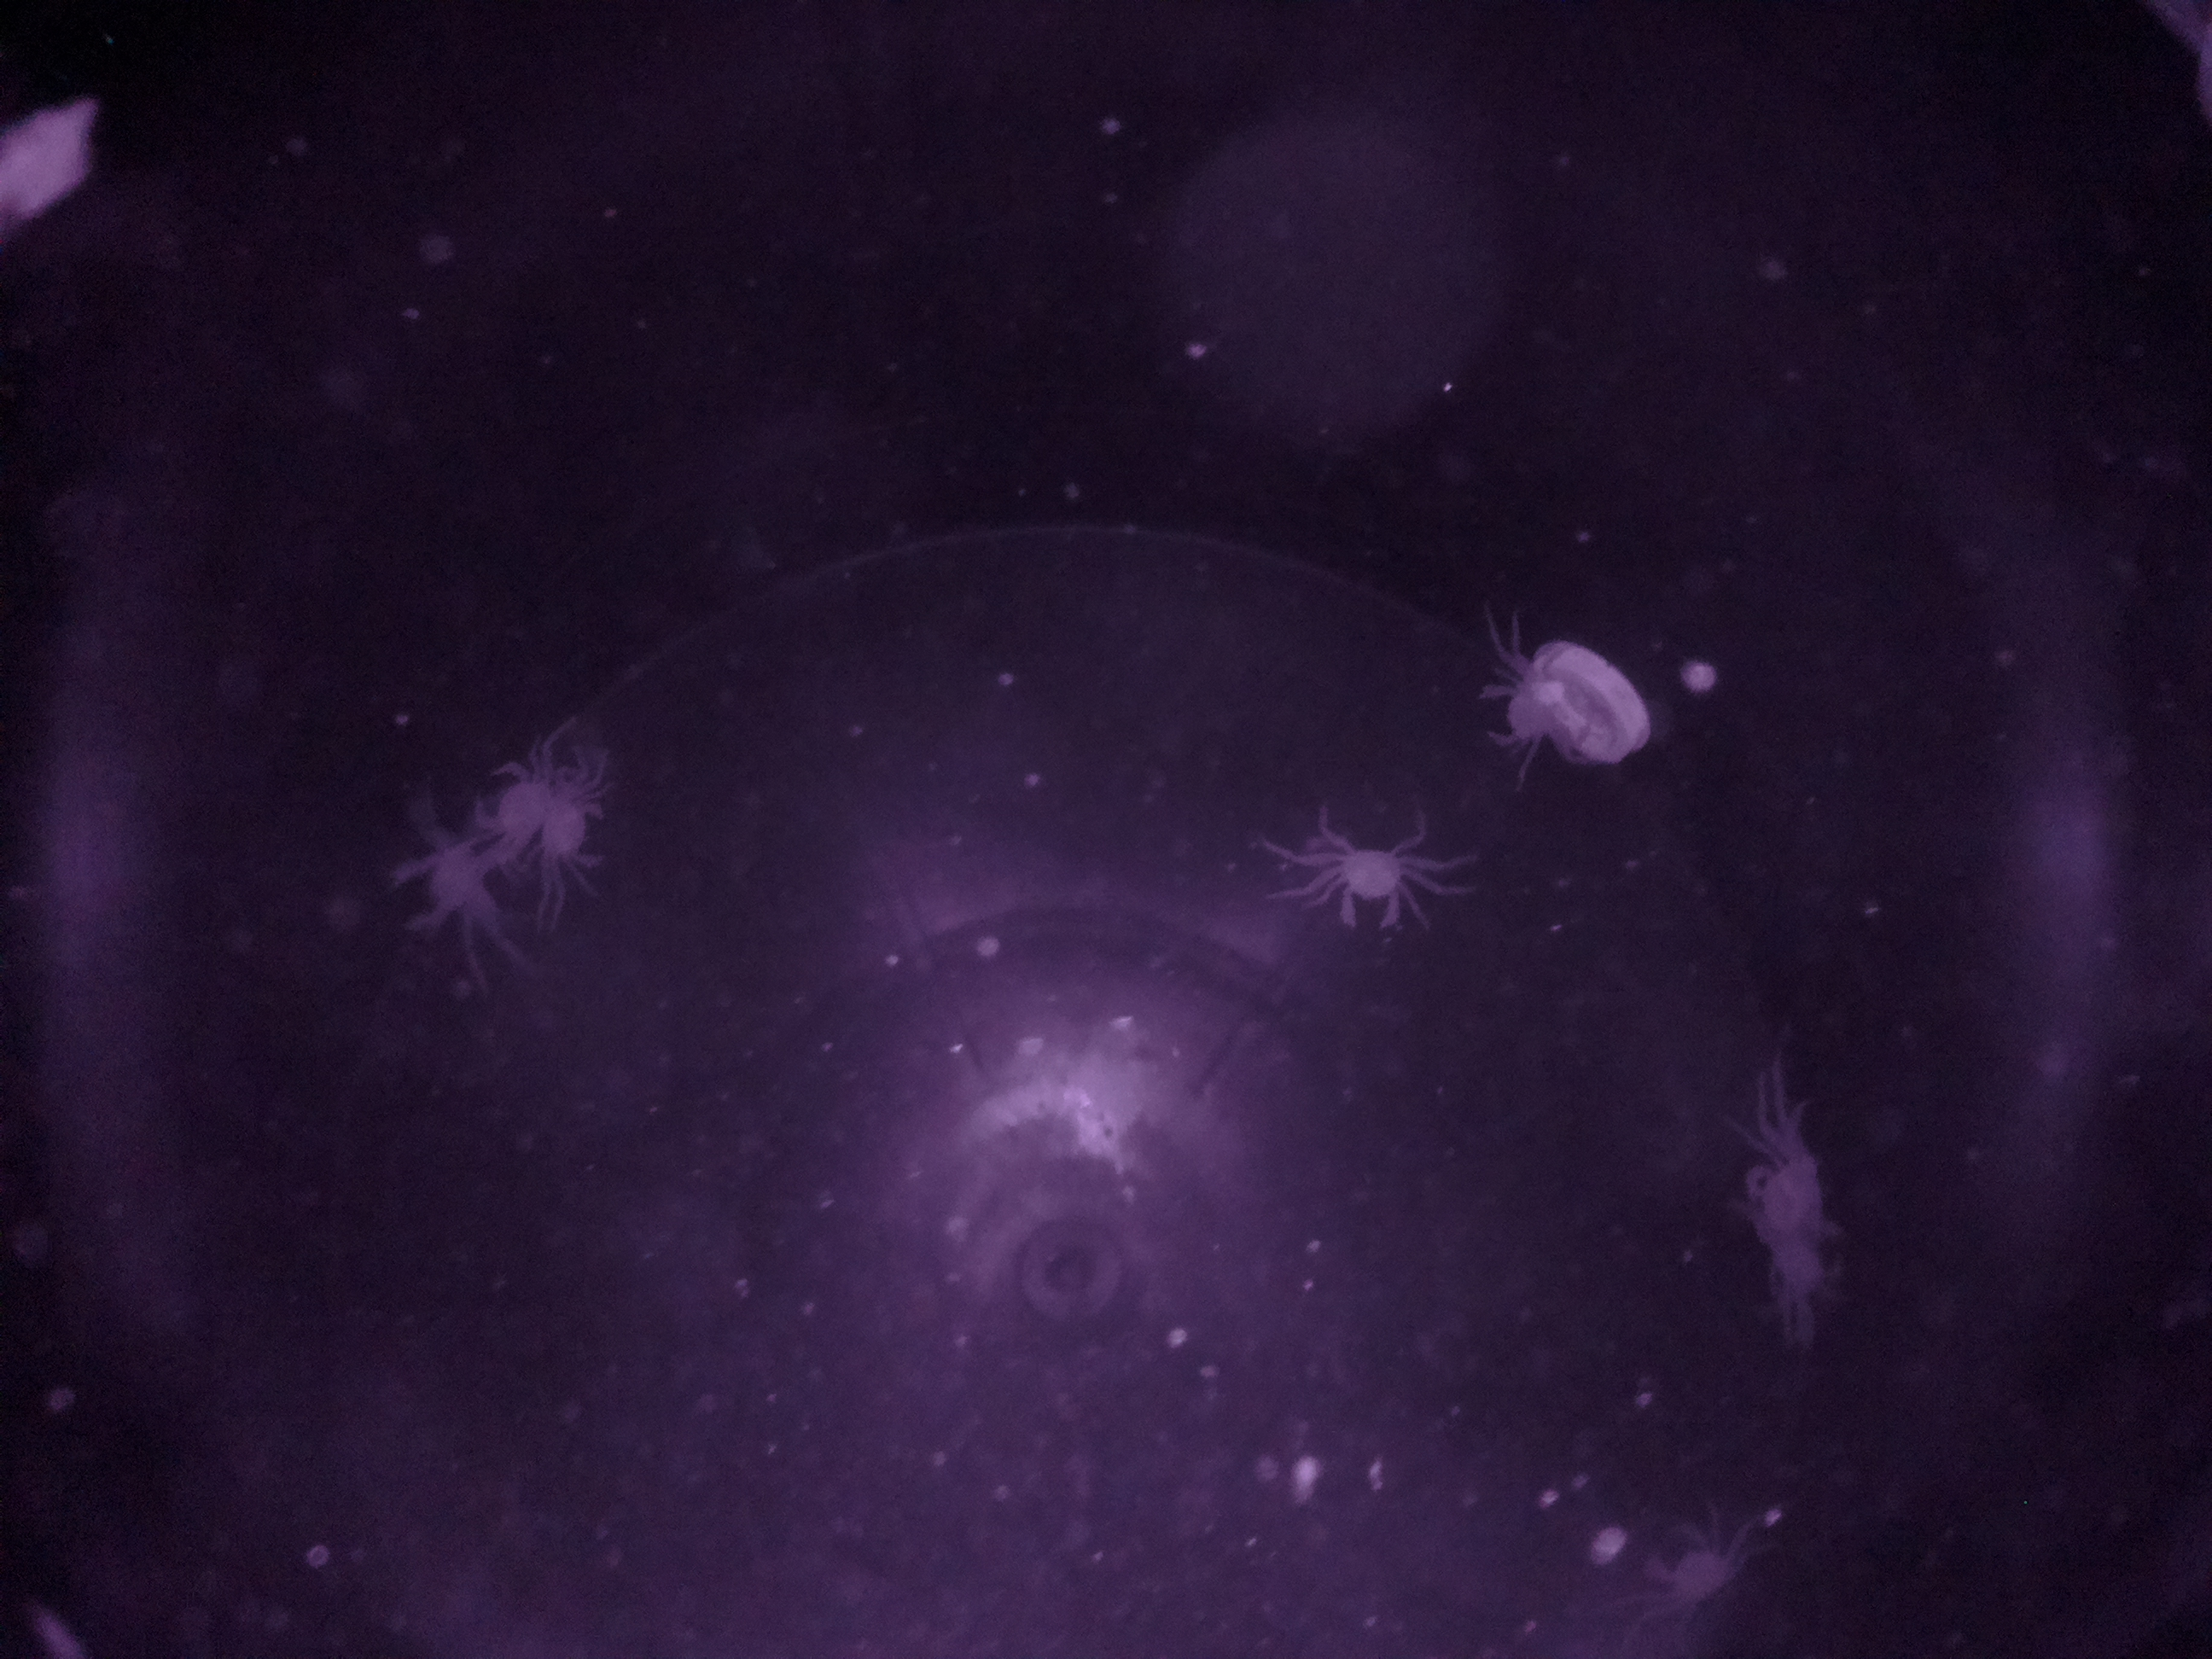Crab: (1310, 826, 1425, 945)
